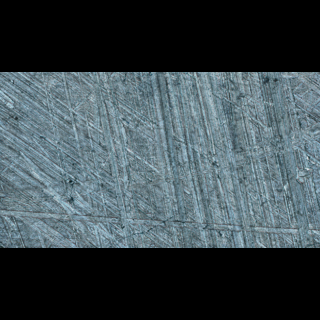d: (0, 118, 319, 210), (88, 72, 162, 248), (0, 205, 320, 243)
